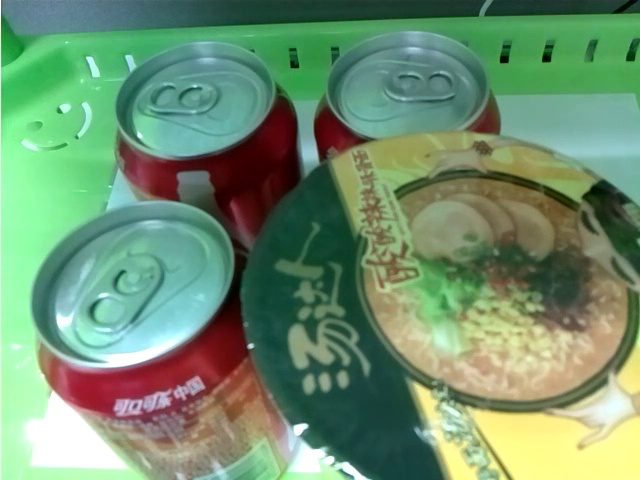cocacola: (27, 193, 299, 480), (113, 40, 302, 218), (309, 29, 502, 147)
noodles: (240, 131, 640, 480)
